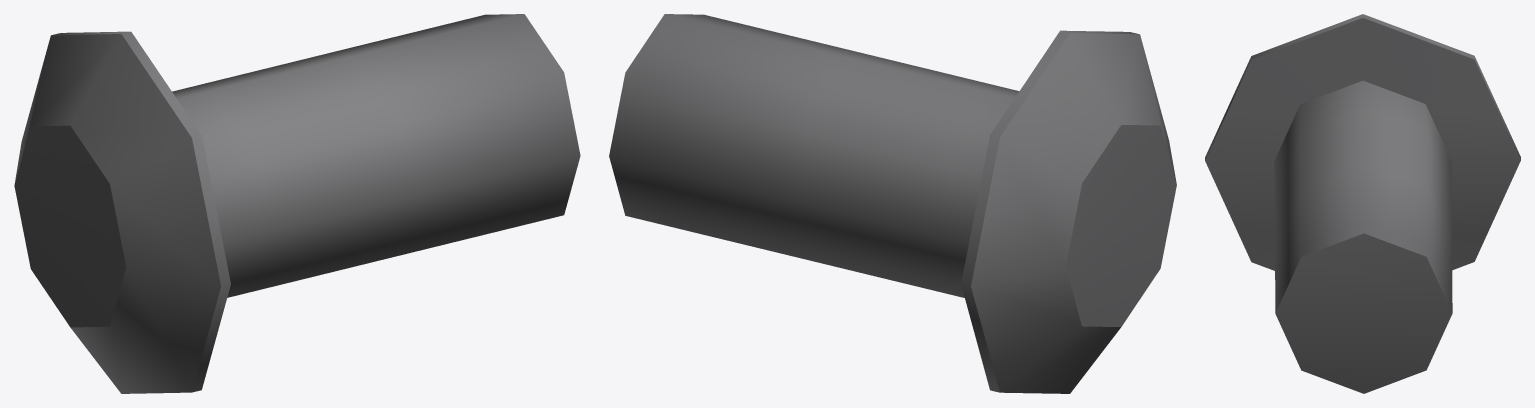
File: Boltik.FBX
The picture shows the model from 3 angles, left to right: view 1: azimuth 30°, elevation 25°; view 2: azimuth 150°, elevation 25°; view 3: azimuth 270°, elevation 25°; orthographic projection. The views are drawn at different scales.
Visible parts, largest first — view 1: Boltik; view 2: Boltik; view 3: Boltik.
Part boxes in pixels (x1=…): Boltik: x1=14, y1=14, x2=580, y2=393; Boltik: x1=609, y1=14, x2=1176, y2=393; Boltik: x1=1205, y1=14, x2=1520, y2=393.
Bounding box in the file's own units: 10.11 × 7.63 × 7.63.
